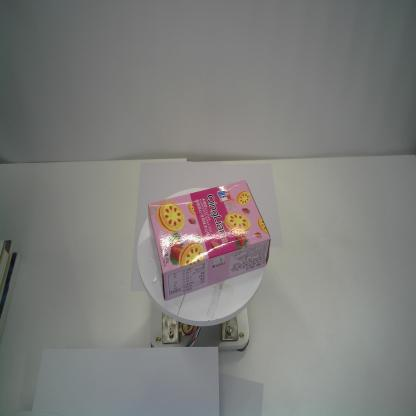Dessert: (146, 180, 272, 302)
